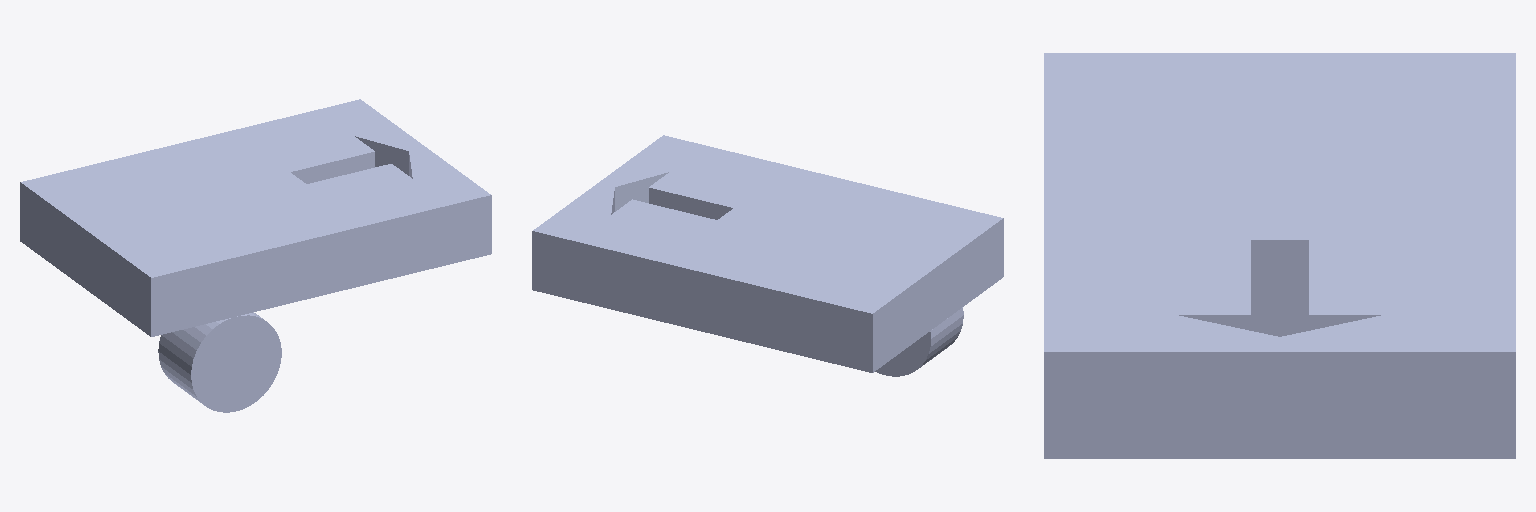
The robot description file, URDF, robot "quad_wheel_robot_6":
<?xml version="1.0" encoding="utf-8"?>
<!-- This URDF was automatically created by SolidWorks to URDF Exporter! Originally created by [author] ([email redacted]) 
     Commit Version: 1.6.0-4-g7f85cfe  Build Version: 1.6.7995.38578
     For more information, please see http://wiki.ros.org/sw_urdf_exporter -->
<robot
  name="quad_wheel_robot_6">
  <link
    name="base_link">
    <inertial>
      <origin
        xyz="0.035777 -8.9781E-19 -2.4037E-18"
        rpy="0 0 0" />
      <mass
        value="0.37441" />
      <inertia
        ixx="0.00035771"
        ixy="-4.3022E-21"
        ixz="-1.3066E-20"
        iyy="0.0010529"
        iyz="-4.5897E-21"
        izz="0.00073547" />
    </inertial>
    <visual>
      <origin
        xyz="0 0 0"
        rpy="0 0 0" />
      <geometry>
        <mesh
          filename="package://quad_wheel_robot_6/meshes/base_link.STL" />
      </geometry>
      <material
        name="">
        <color
          rgba="0.79216 0.81961 0.93333 1" />
      </material>
    </visual>
    <collision>
      <origin
        xyz="0 0 0"
        rpy="0 0 0" />
      <geometry>
        <mesh
          filename="package://quad_wheel_robot_6/meshes/base_link.STL" />
      </geometry>
    </collision>
  </link>
  <link
    name="right_rear_wheel">
    <inertial>
      <origin
        xyz="3.8931E-19 0 6.9389E-18"
        rpy="0 0 0" />
      <mass
        value="0.032948" />
      <inertia
        ixx="5.1725E-06"
        ixy="1.2745E-54"
        ixz="-1.523E-38"
        iyy="5.1725E-06"
        iyz="-1.6431E-38"
        izz="6.8022E-06" />
    </inertial>
    <visual>
      <origin
        xyz="0 0 0"
        rpy="0 0 0" />
      <geometry>
        <mesh
          filename="package://quad_wheel_robot_6/meshes/right_rear_wheel.STL" />
      </geometry>
      <material
        name="">
        <color
          rgba="0.79216 0.81961 0.93333 1" />
      </material>
    </visual>
    <collision>
      <origin
        xyz="0 0 0"
        rpy="0 0 0" />
      <geometry>
        <mesh
          filename="package://quad_wheel_robot_6/meshes/right_rear_wheel.STL" />
      </geometry>
    </collision>
  </link>
  <joint
    name="right_rear_wheel_joint"
    type="continuous">
    <origin
      xyz="0 -0.0381 -0.03302"
      rpy="1.5708 0 0" />
    <parent
      link="base_link" />
    <child
      link="right_rear_wheel" />
    <axis
      xyz="0 0 1" />
  </joint>
  <link
    name="left_rear_wheel">
    <inertial>
      <origin
        xyz="3.89312661068903E-19 0 -6.93889390390723E-18"
        rpy="0 0 0" />
      <mass
        value="0.0329481471208357" />
      <inertia
        ixx="5.17249447180973E-06"
        ixy="1.27447352890596E-54"
        ixz="1.0305020334644E-38"
        iyy="5.17249447180973E-06"
        iyz="-1.64312557597493E-38"
        izz="6.80218451087307E-06" />
    </inertial>
    <visual>
      <origin
        xyz="0 0 0"
        rpy="0 0 0" />
      <geometry>
        <mesh
          filename="package://quad_wheel_robot_6/meshes/left_rear_wheel.STL" />
      </geometry>
      <material
        name="">
        <color
          rgba="0.792156862745098 0.819607843137255 0.933333333333333 1" />
      </material>
    </visual>
    <collision>
      <origin
        xyz="0 0 0"
        rpy="0 0 0" />
      <geometry>
        <mesh
          filename="package://quad_wheel_robot_6/meshes/left_rear_wheel.STL" />
      </geometry>
    </collision>
  </link>
  <joint
    name="left_rear_wheel_joint"
    type="continuous">
    <origin
      xyz="0 0.0381 -0.03302"
      rpy="1.5708 0 0" />
    <parent
      link="base_link" />
    <child
      link="left_rear_wheel" />
    <axis
      xyz="0 0 1" />
  </joint>
  <link
    name="right_front_wheel">
    <inertial>
      <origin
        xyz="-1.3878E-17 0 0"
        rpy="0 0 0" />
      <mass
        value="0.032948" />
      <inertia
        ixx="5.1725E-06"
        ixy="2.5489E-54"
        ixz="-1.7929E-22"
        iyy="5.1725E-06"
        iyz="-1.6431E-38"
        izz="6.8022E-06" />
    </inertial>
    <visual>
      <origin
        xyz="0 0 0"
        rpy="0 0 0" />
      <geometry>
        <mesh
          filename="package://quad_wheel_robot_6/meshes/right_front_wheel.STL" />
      </geometry>
      <material
        name="">
        <color
          rgba="0.79216 0.81961 0.93333 1" />
      </material>
    </visual>
    <collision>
      <origin
        xyz="0 0 0"
        rpy="0 0 0" />
      <geometry>
        <mesh
          filename="package://quad_wheel_robot_6/meshes/right_front_wheel.STL" />
      </geometry>
    </collision>
  </link>
  <joint
    name="right_front_wheel_joint"
    type="continuous">
    <origin
      xyz="0.0762 -0.0381 -0.03302"
      rpy="1.5708 0 0" />
    <parent
      link="base_link" />
    <child
      link="right_front_wheel" />
    <axis
      xyz="0 0 1" />
  </joint>
  <link
    name="left_front_wheel">
    <inertial>
      <origin
        xyz="0 0 -6.93889390390723E-18"
        rpy="0 0 0" />
      <mass
        value="0.0329481471208357" />
      <inertia
        ixx="5.17249447180973E-06"
        ixy="1.27447352890596E-54"
        ixz="1.7928864050216E-22"
        iyy="5.17249447180973E-06"
        iyz="-1.64312557597493E-38"
        izz="6.80218451087308E-06" />
    </inertial>
    <visual>
      <origin
        xyz="0 0 0"
        rpy="0 0 0" />
      <geometry>
        <mesh
          filename="package://quad_wheel_robot_6/meshes/left_front_wheel.STL" />
      </geometry>
      <material
        name="">
        <color
          rgba="0.792156862745098 0.819607843137255 0.933333333333333 1" />
      </material>
    </visual>
    <collision>
      <origin
        xyz="0 0 0"
        rpy="0 0 0" />
      <geometry>
        <mesh
          filename="package://quad_wheel_robot_6/meshes/left_front_wheel.STL" />
      </geometry>
    </collision>
  </link>
  <joint
    name="left_front_wheel_joint"
    type="continuous">
    <origin
      xyz="0.0762 0.0381 -0.03302"
      rpy="1.5708 0 0" />
    <parent
      link="base_link" />
    <child
      link="left_front_wheel" />
    <axis
      xyz="0 0 1" />
  </joint>
</robot>

--- Facts derived from the render (not from the file) ---
The picture shows the robot from 3 angles, left to right: view 1: azimuth 30°, elevation 25°; view 2: azimuth 150°, elevation 25°; view 3: azimuth 270°, elevation 25°; orthographic projection.
Robot: quad_wheel_robot_6 — 5 links, 4 joints (4 continuous); root link base_link; default pose: every joint at zero.
Links seen in each view (by area): view 1: base_link, right_rear_wheel; view 2: base_link, right_rear_wheel; view 3: base_link.
Link boxes in pixels (box(x1,y1,x2,y2)): base_link: box(20, 99, 491, 336); right_rear_wheel: box(158, 312, 281, 412); base_link: box(532, 135, 1003, 372); right_rear_wheel: box(875, 307, 963, 376); base_link: box(1044, 53, 1515, 458).
Bounding box of the posed robot: 0.1524 × 0.1016 × 0.066 m (x, y, z).
Meshes: 5 distinct files referenced, 2 mesh visuals loaded (2 binary STL); not drawn: 3 (reference not matched to a file when rendering).